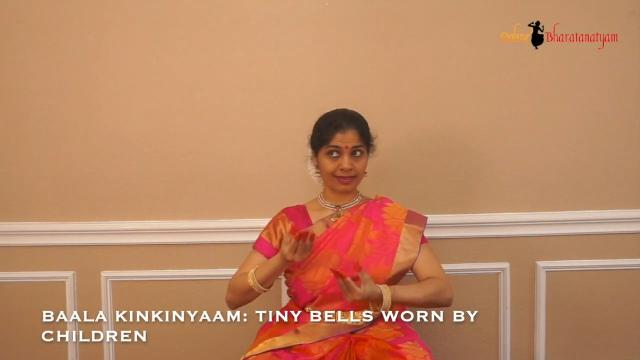kangul: (329, 250, 393, 316), (262, 214, 326, 264)
